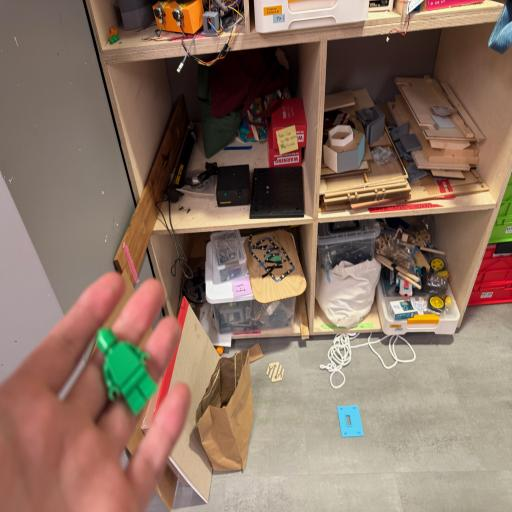Lego-Dude: (96, 328, 156, 415)
